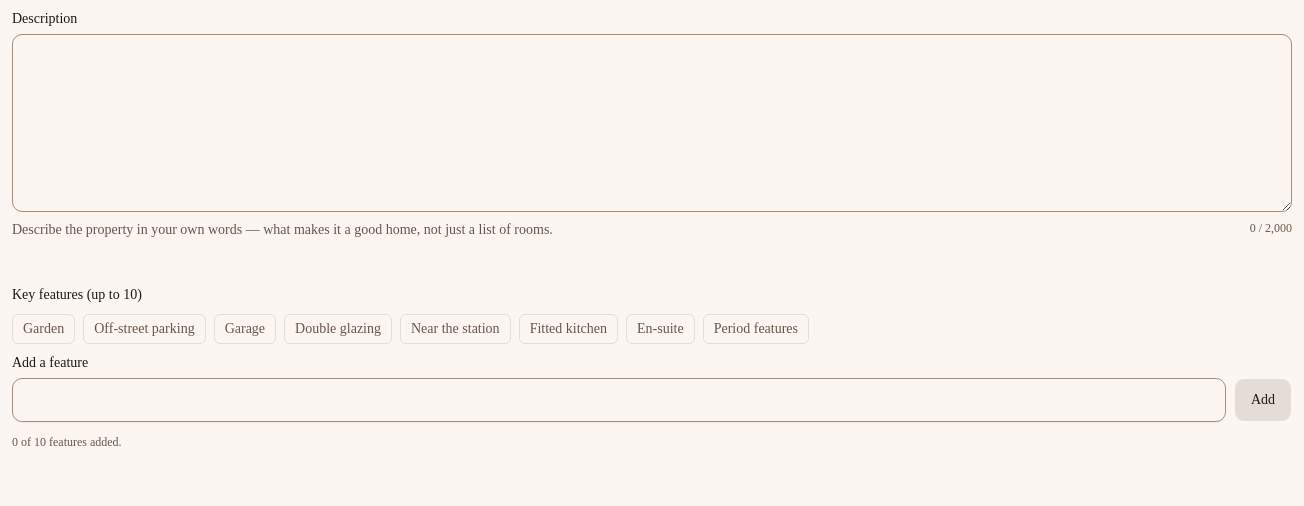
StepDescription › adding a feature via the chip input updates the shared form state
Click the button "Garden" at (44,329), box [12,314,75,344]
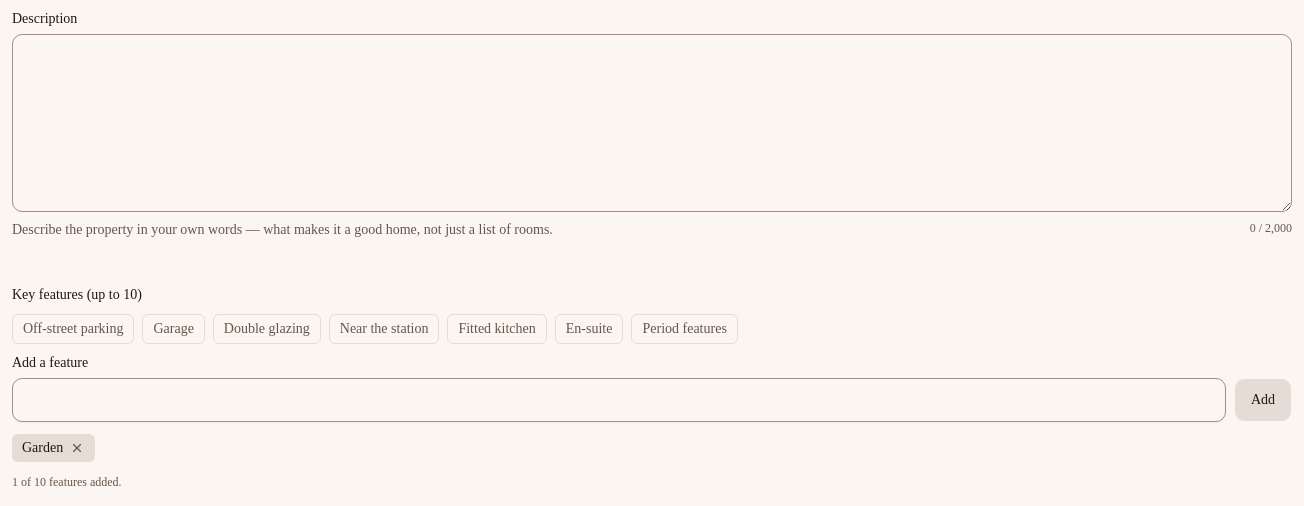
Result: the text "1 of 10 features added." is shown at [12,475,122,489]
